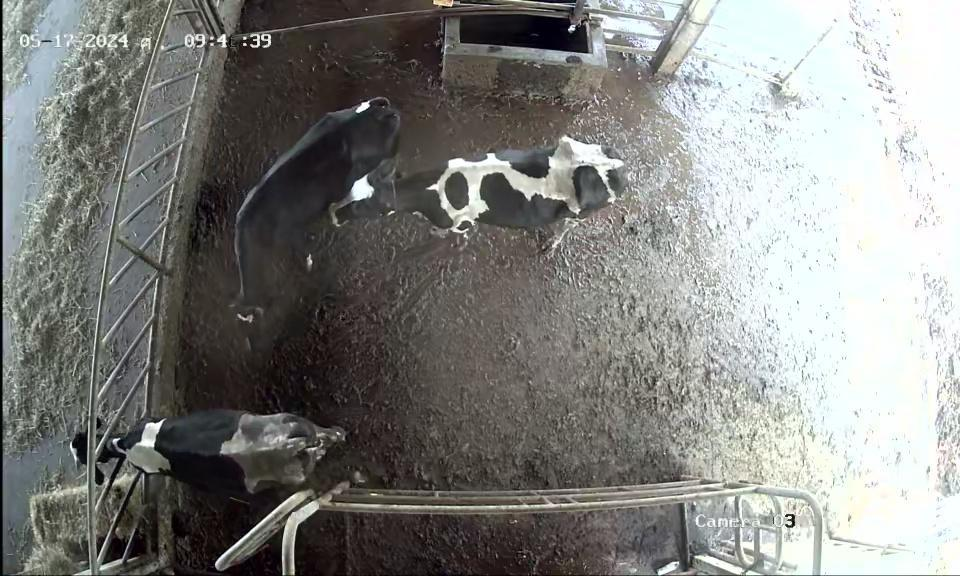eat: (58, 396, 171, 489)
stand: (202, 83, 406, 346), (321, 131, 648, 271)
